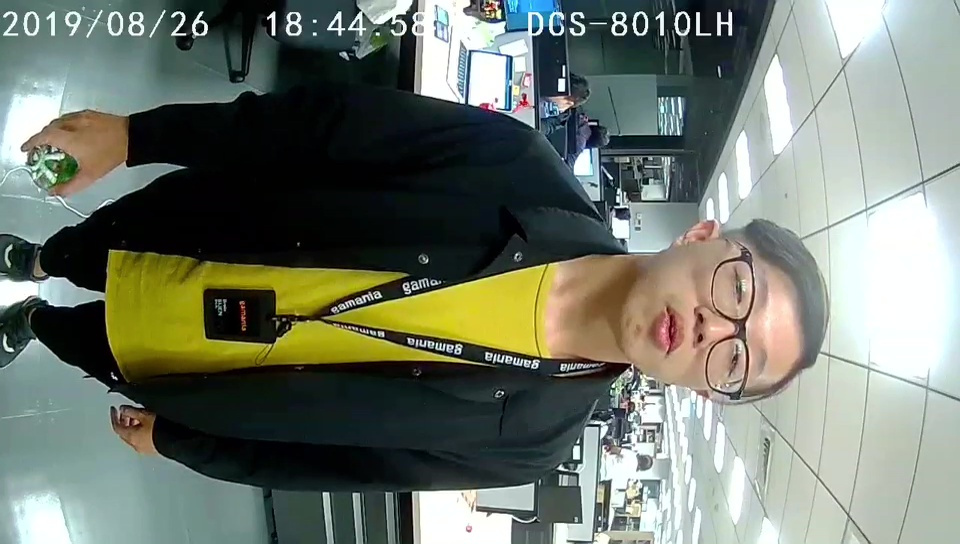buzz: (24, 144, 79, 191)
